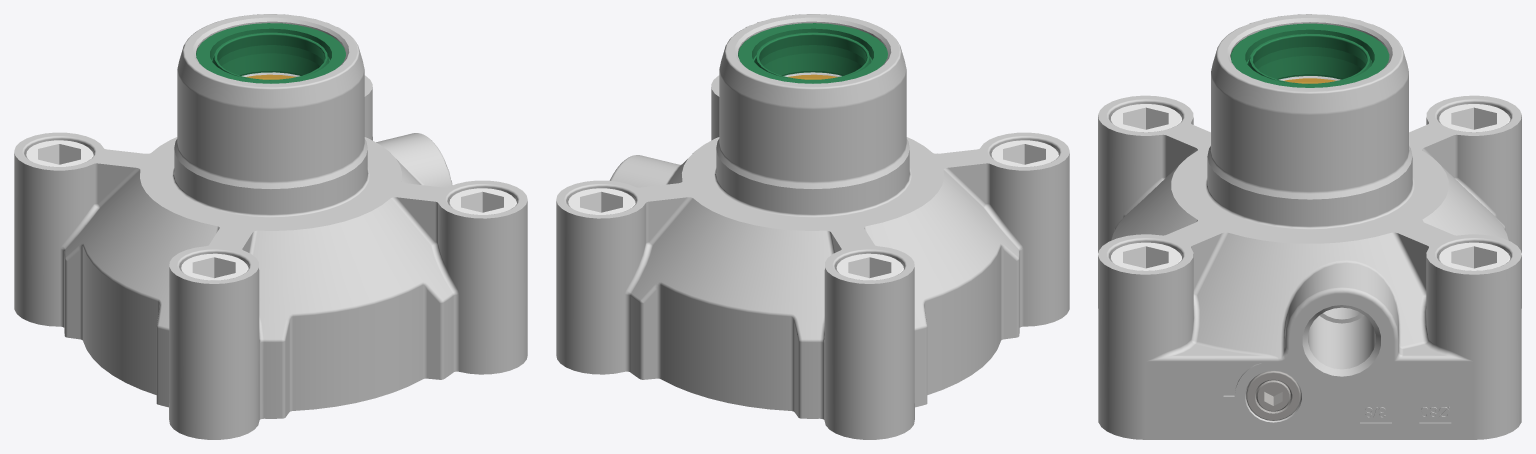
File: TAPA080.gltf
3 views of the same model, side by side, from view 1: azimuth 30°, elevation 25°; view 2: azimuth 150°, elevation 25°; view 3: azimuth 270°, elevation 25° (orthographic). The views are drawn at different scales.
Parts seen in each view (by area): view 1: TA080; view 2: TA080; view 3: TA080.
Part boxes in pixels (left/top/right/bottom): TA080: left=14, top=14, right=527, bottom=439; TA080: left=556, top=14, right=1069, bottom=439; TA080: left=1098, top=14, right=1521, bottom=439.
Size of the model in its own units: 0.093 by 0.072 by 0.093.
